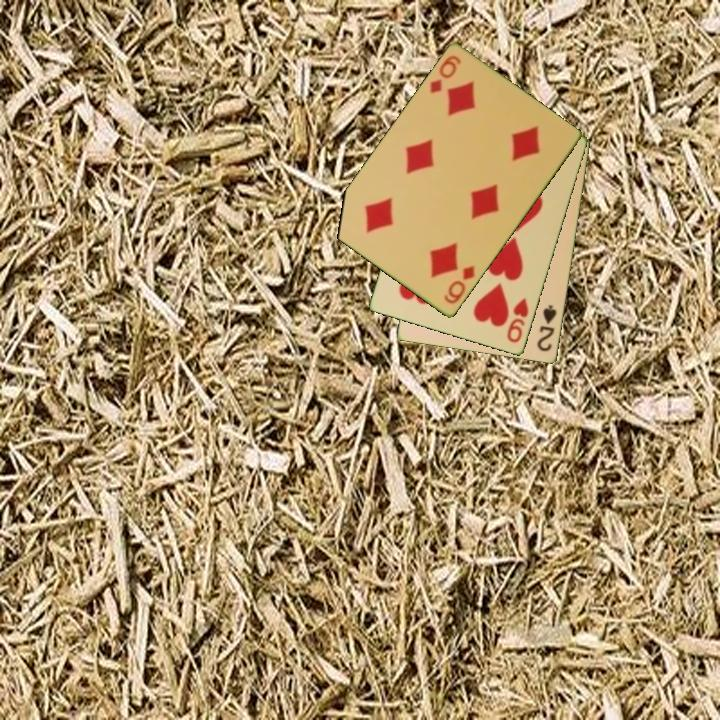2s: (534, 302, 560, 355)
6d: (426, 52, 464, 97), (440, 263, 478, 307)
9h: (504, 295, 532, 346)
